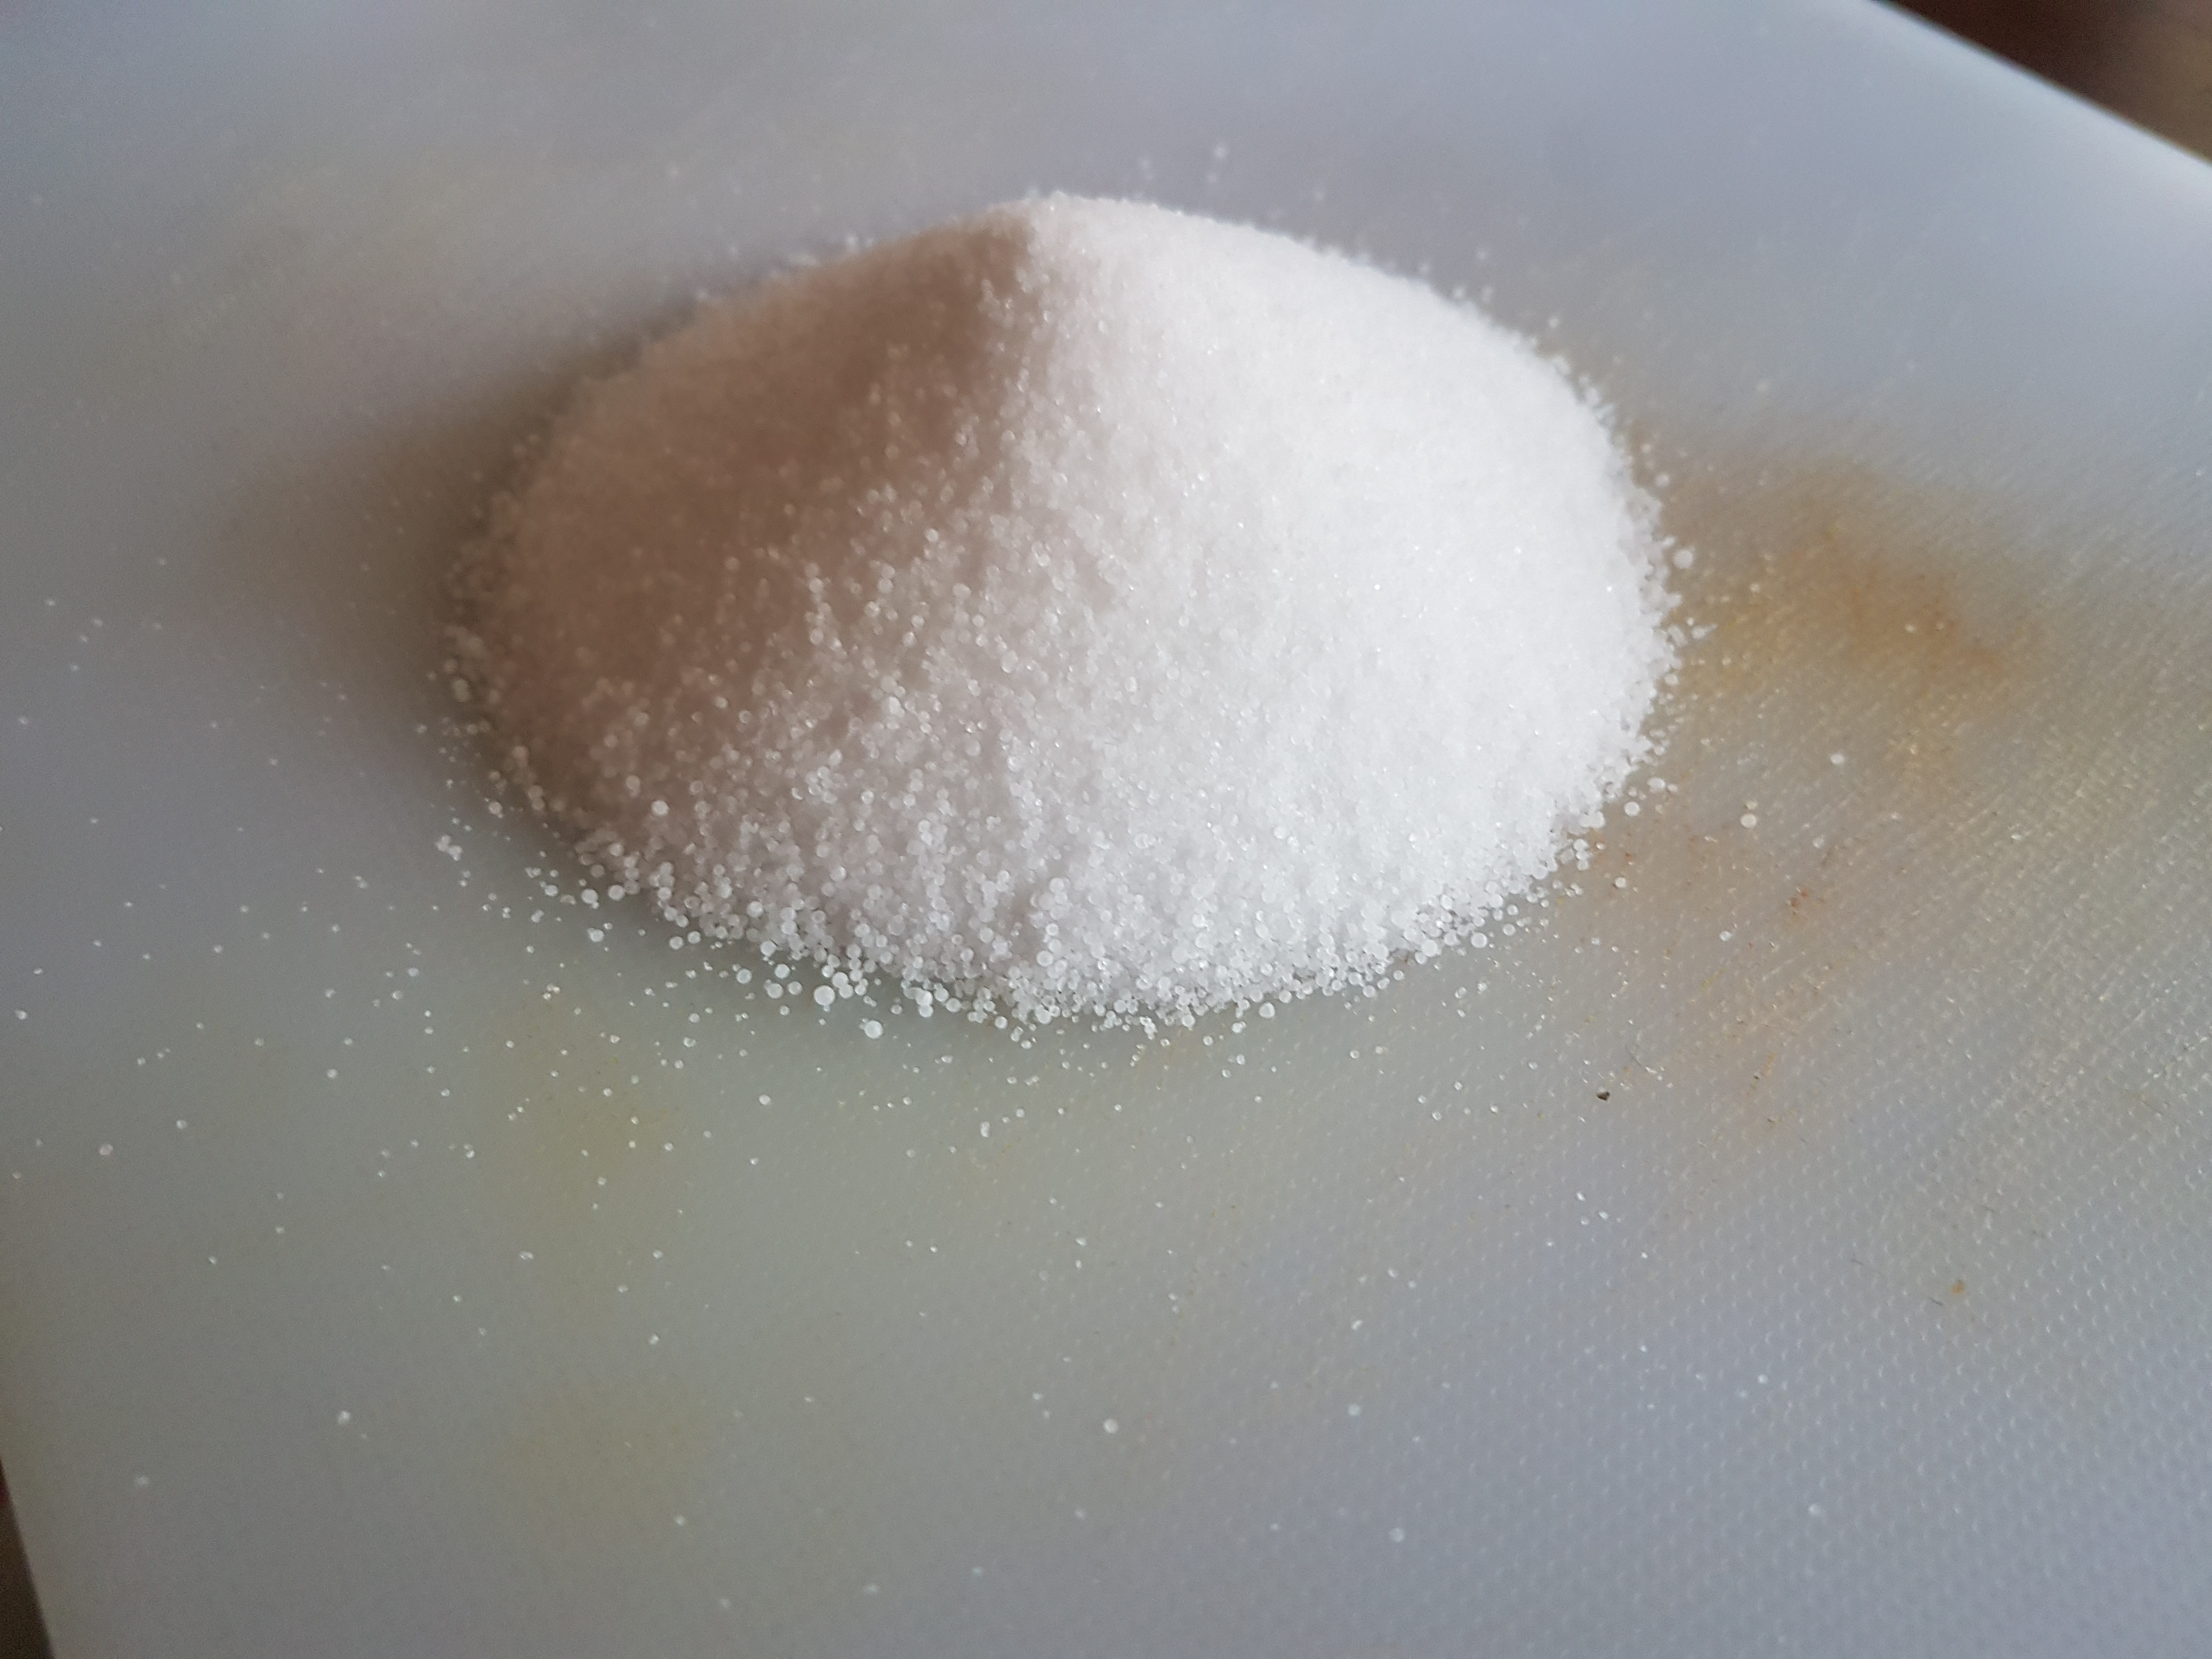Salt: (253, 98, 1991, 1199)
